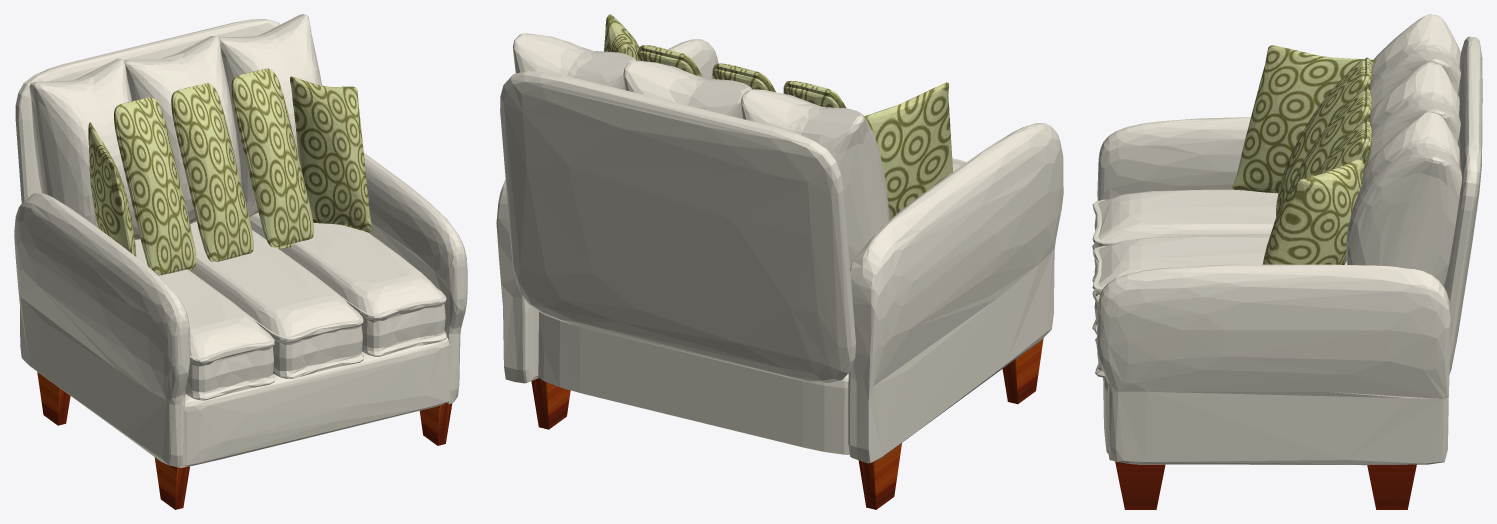
The model's file is sh-contrib-large-couch.glb.
3 renders of one model, left to right at view 1: azimuth 30°, elevation 25°; view 2: azimuth 150°, elevation 25°; view 3: azimuth 270°, elevation 25°, orthographic. The views are drawn at different scales.
Parts seen in each view (by area): view 1: PolyMesh_2, PolyMesh_1_2, PolyMesh_5; view 2: PolyMesh_2, PolyMesh_1_2, PolyMesh_5; view 3: PolyMesh_2, PolyMesh_1_2, PolyMesh_5.
Part boxes in pixels (<box>): PolyMesh_2: <box>14,14,467,467</box>; PolyMesh_1_2: <box>88,68,372,275</box>; PolyMesh_5: <box>37,372,452,509</box>; PolyMesh_2: <box>496,33,1063,463</box>; PolyMesh_1_2: <box>604,14,952,219</box>; PolyMesh_5: <box>531,338,1043,509</box>; PolyMesh_2: <box>1092,14,1482,465</box>; PolyMesh_1_2: <box>1232,45,1375,264</box>; PolyMesh_5: <box>1115,461,1416,509</box>.
Size of the model in its own units: 0.9992 by 1 by 0.9998.
3 materials, 2 textured.
